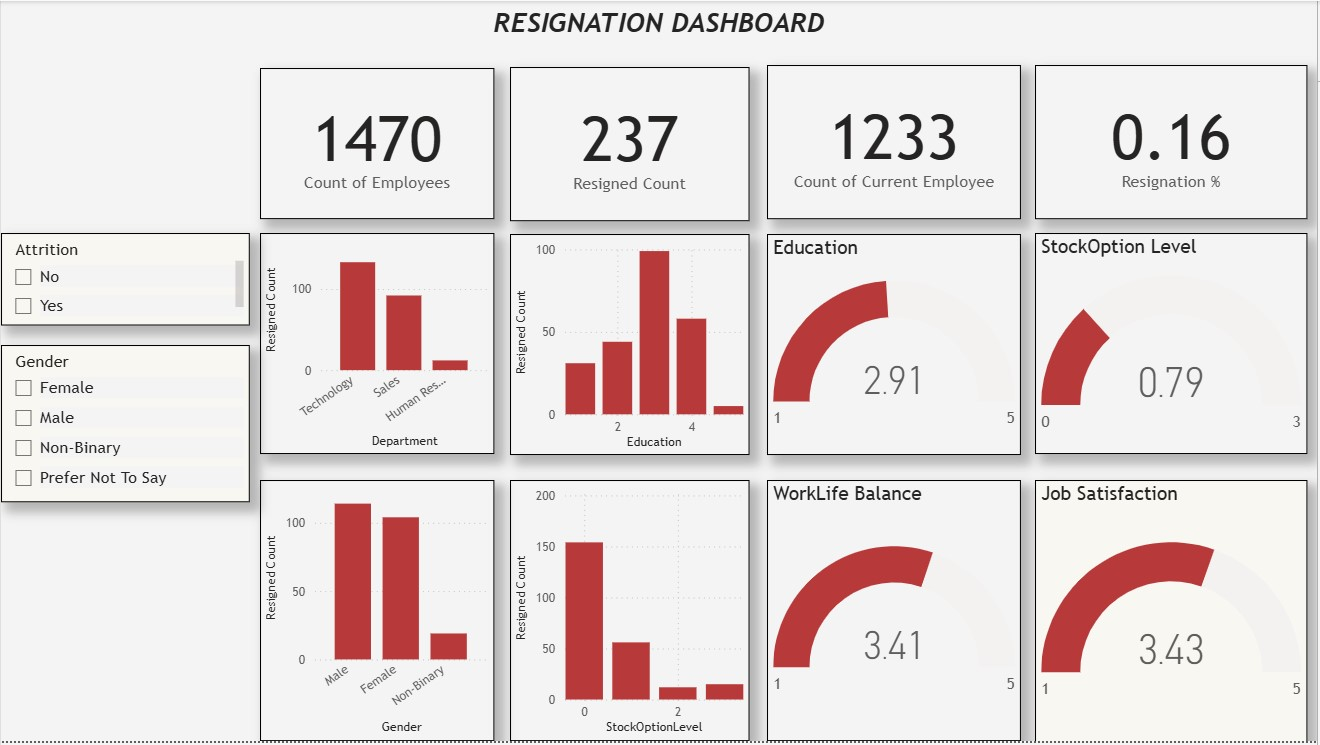

The page's visual inventory and layout, read from the dashboard file:
{"tool":"powerbi","page":{"name":"Resignation DashBoard","canvas":[1280,720],"ordinal":0},"visuals":[{"type":"card","title":"Number of Employees","fields":{"Values":["Count(Employee.EmployeeID)"]},"box":[251.5,64.9,227.8,147.4],"z":0},{"type":"textbox","box":[0,0,1280,49.6],"z":1000},{"type":"card","fields":{"Values":["EducationLevel.Resigned Count"]},"box":[494.7,63.9,232.9,150.5],"z":2000},{"type":"card","fields":{"Values":["EducationLevel.Active Count"]},"box":[745.1,61.8,247.3,150.5],"z":3000},{"type":"clusteredColumnChart","title":"Department","fields":{"Y":["EducationLevel.Resigned Count"],"Category":["Employee.Department"]},"box":[251.5,225.7,227.8,215.4],"z":4000},{"type":"clusteredColumnChart","fields":{"Y":["EducationLevel.Resigned Count"],"Category":["Employee.Education"]},"box":[494.7,226.7,232.9,215.4],"z":5000},{"type":"clusteredColumnChart","fields":{"Y":["EducationLevel.Resigned Count"],"Category":["Employee.StockOptionLevel"]},"box":[494.7,465.8,232.9,253.5],"z":6000},{"type":"clusteredColumnChart","fields":{"Y":["EducationLevel.Resigned Count"],"Category":["Employee.Gender"]},"box":[251.5,465.8,227.8,253.5],"z":7000},{"type":"card","fields":{"Values":["EducationLevel.Resignation %"]},"box":[1005.9,61.8,264.9,150.5],"z":8000},{"type":"gauge","title":"Education","fields":{"Y":["Avg(Employee.Education)"],"MinValue":["Min(Employee.Education)1"],"MaxValue":["Max(Employee.Education)2"]},"box":[745.1,226.7,247.3,215.4],"z":9000},{"type":"gauge","title":"WorkLife Balance","fields":{"Y":["Avg(PerformanceRating.WorkLifeBalance)"],"MinValue":["Min(PerformanceRating.WorkLifeBalance)"],"MaxValue":["Max(PerformanceRating.WorkLifeBalance)1"]},"box":[745.1,465.8,247.3,253.5],"z":10000},{"type":"gauge","title":"StockOption Level","fields":{"Y":["Avg(Employee.StockOptionLevel)"],"MinValue":["Min(Employee.StockOptionLevel)1"],"MaxValue":["Max(Employee.StockOptionLevel)2"]},"box":[1005.9,225.7,264.9,215.4],"z":11000},{"type":"gauge","title":"Job Satisfaction","fields":{"Y":["Avg(PerformanceRating.JobSatisfaction)"],"MinValue":["Min(PerformanceRating.JobSatisfaction)1"],"MaxValue":["Max(PerformanceRating.JobSatisfaction)2"]},"box":[1005.9,465.8,264.9,254.6],"z":12000},{"type":"slicer","fields":{"Values":["Employee.Attrition"]},"box":[0,225.7,242.2,89.7],"z":13000},{"type":"slicer","fields":{"Values":["Employee.Gender"]},"box":[0,334.9,242.2,152.5],"z":14000}]}

Visuals, with their boxes in screenshot pixels (x1, y1, x2, y2), scaled from the page's 1280x720 canvas onto the 1320x745 screenshot:
"Number of Employees" card: <bbox>259, 67, 494, 220</bbox>
textbox: <bbox>0, 0, 1319, 51</bbox>
card - EducationLevel.Resigned Count: <bbox>510, 66, 750, 222</bbox>
card - EducationLevel.Active Count: <bbox>768, 64, 1023, 220</bbox>
"Department" clusteredColumnChart: <bbox>259, 234, 494, 456</bbox>
clusteredColumnChart - EducationLevel.Resigned Count x Employee.Education: <bbox>510, 235, 750, 457</bbox>
clusteredColumnChart - EducationLevel.Resigned Count x Employee.StockOptionLevel: <bbox>510, 482, 750, 744</bbox>
clusteredColumnChart - EducationLevel.Resigned Count x Employee.Gender: <bbox>259, 482, 494, 744</bbox>
card - EducationLevel.Resignation %: <bbox>1037, 64, 1311, 220</bbox>
"Education" gauge: <bbox>768, 235, 1023, 457</bbox>
"WorkLife Balance" gauge: <bbox>768, 482, 1023, 744</bbox>
"StockOption Level" gauge: <bbox>1037, 234, 1311, 456</bbox>
"Job Satisfaction" gauge: <bbox>1037, 482, 1311, 744</bbox>
slicer - Employee.Attrition: <bbox>0, 234, 250, 326</bbox>
slicer - Employee.Gender: <bbox>0, 347, 250, 504</bbox>
